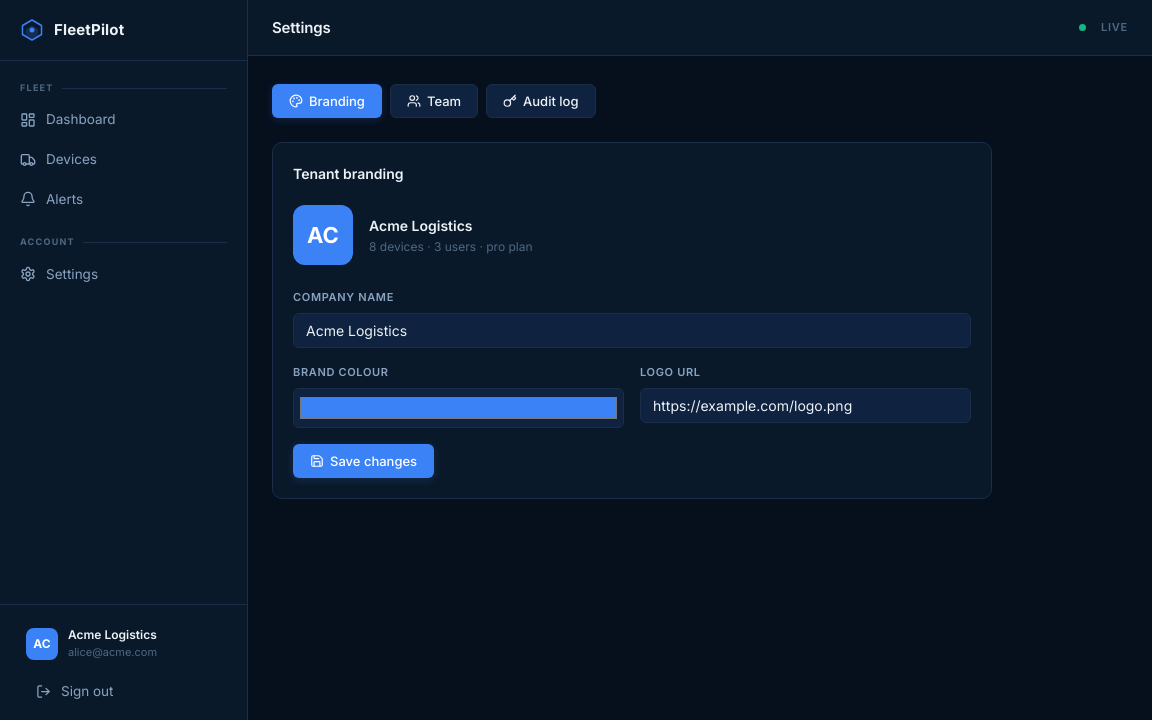
Test: Settings › switches to Team tab when clicked
The image size is (1152, 720).
Click the button "Team" at (434, 101), box [390,84,478,118]
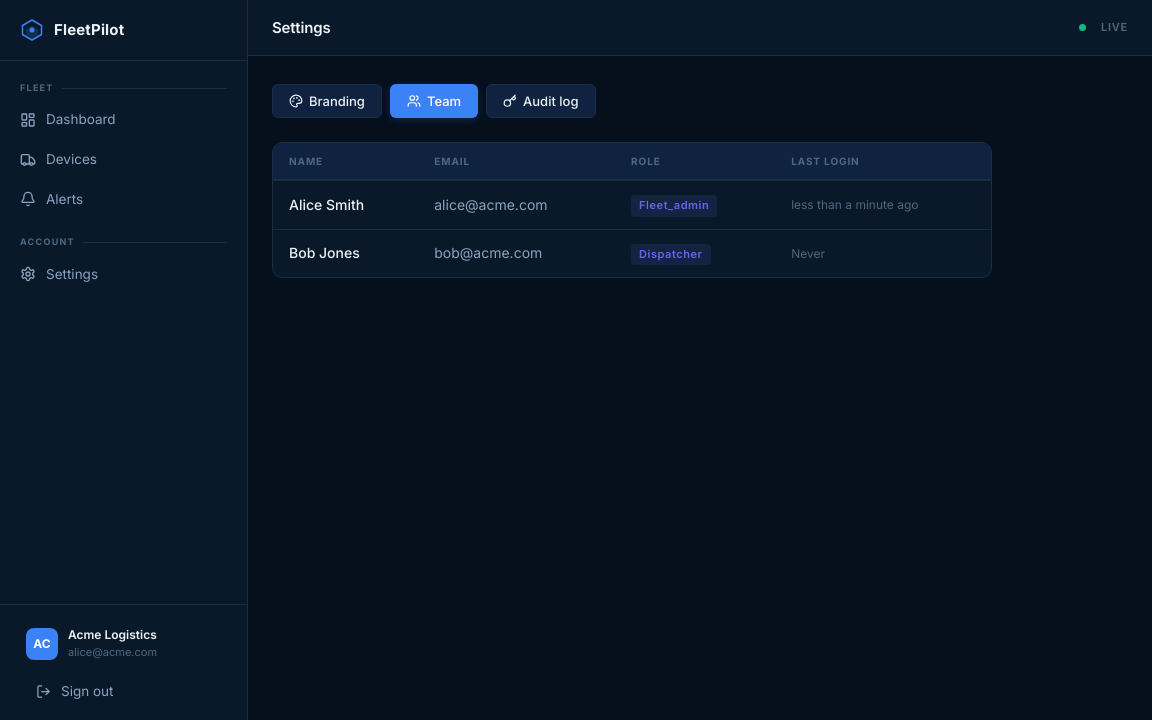
Result: the text "Alice Smith" is shown at [273,180,418,229]
Result: the text "Bob Jones" is shown at [273,229,418,277]
